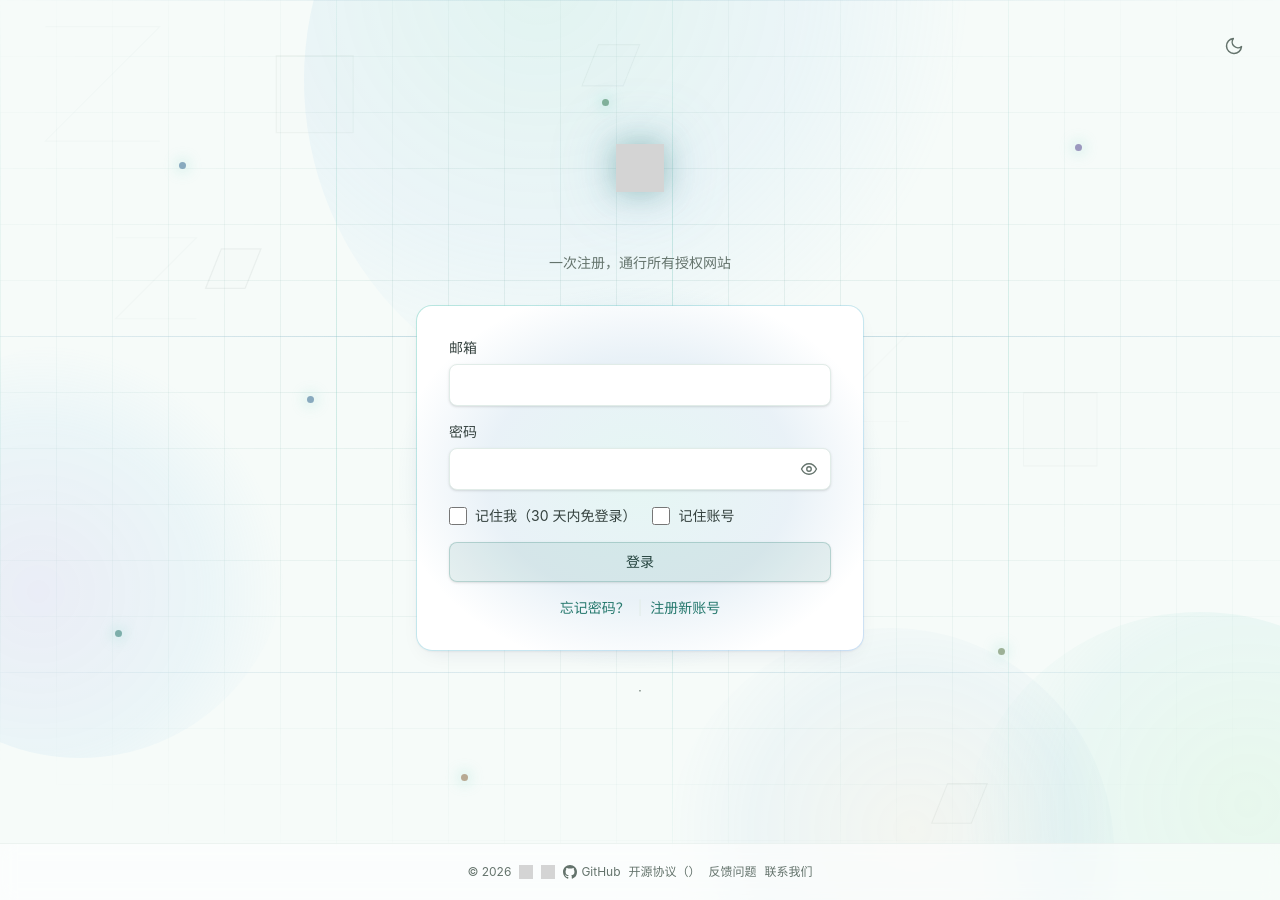
LoginPage › 登录失败时展示错误信息
The width and height of the screenshot is (1280, 900).
In the field labelled "邮箱": (640, 385) [449, 364, 831, 406], type "a@example.com"
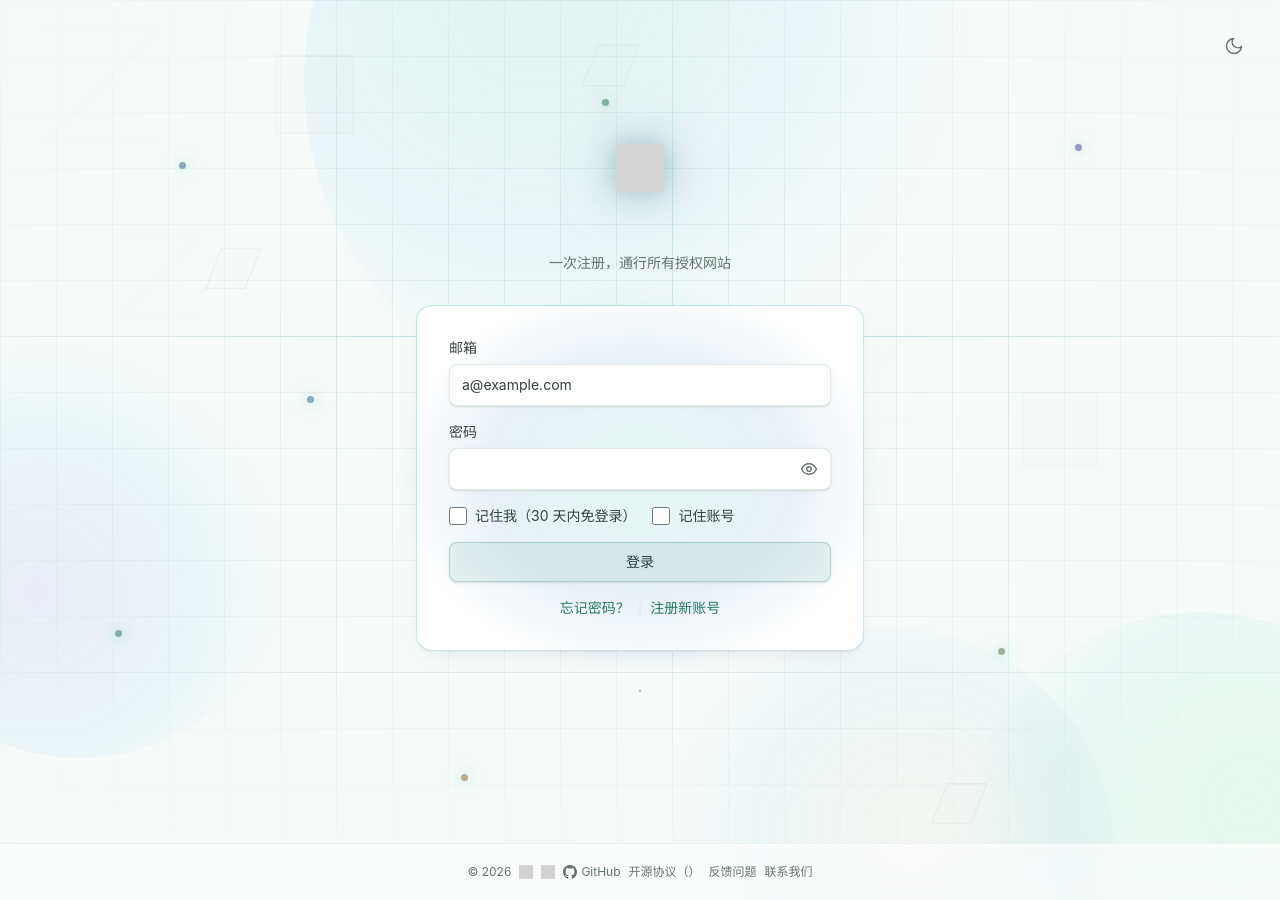
In the password field labelled "密码": (640, 469) [449, 448, 831, 490], type "wrongpass"
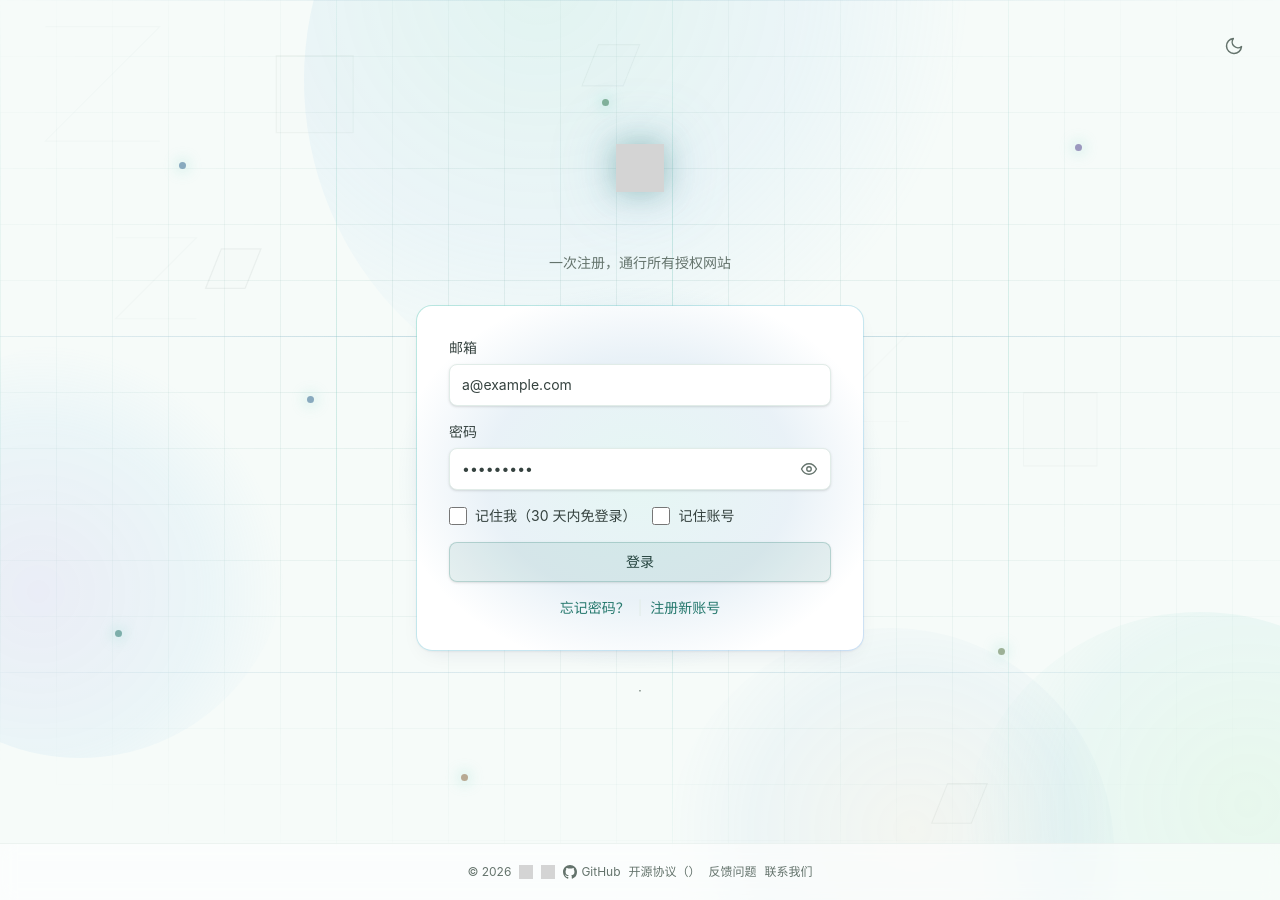
Click the button "登录": (640, 562) [449, 542, 831, 582]
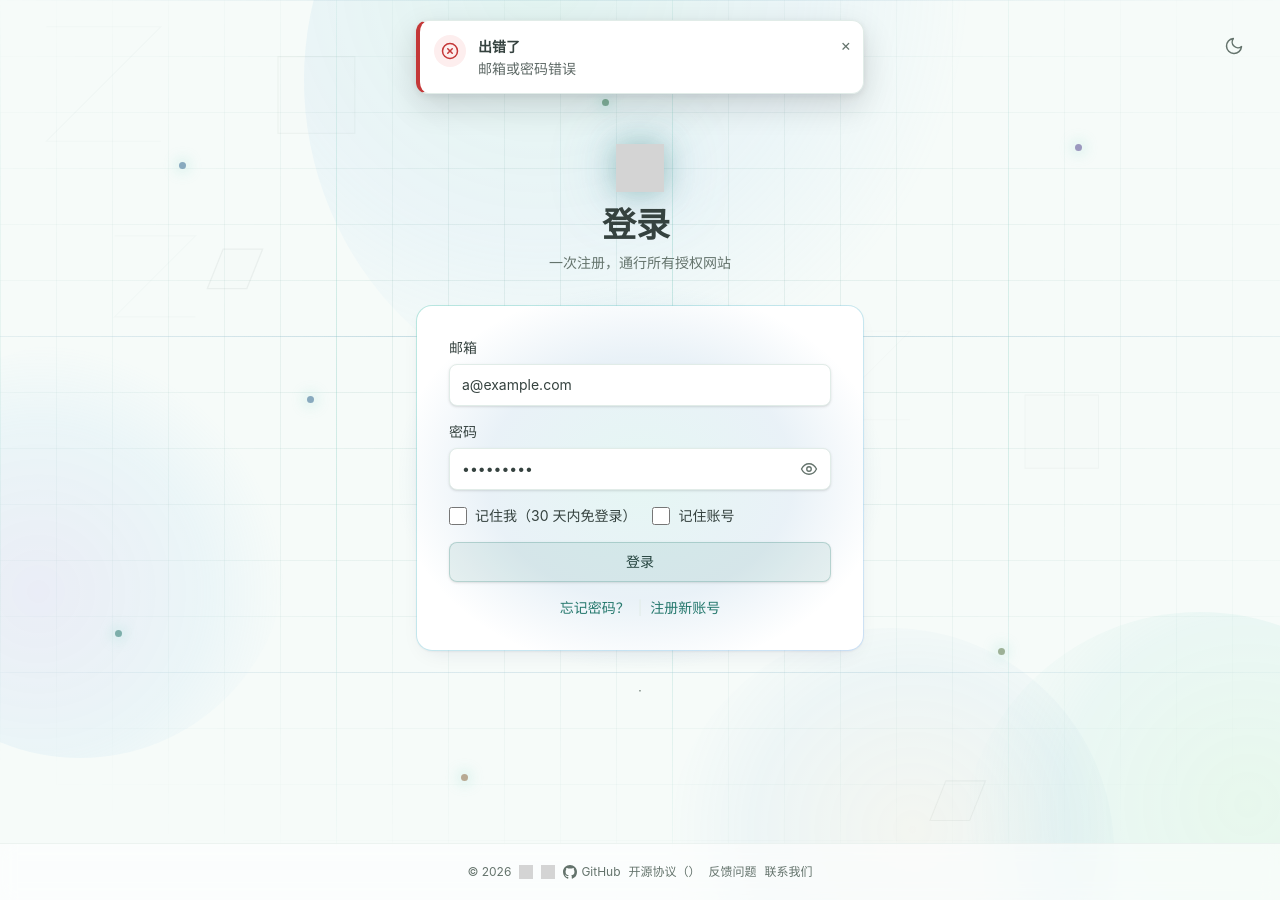
Now the text "邮箱或密码错误" is shown, box [478, 60, 576, 77]
